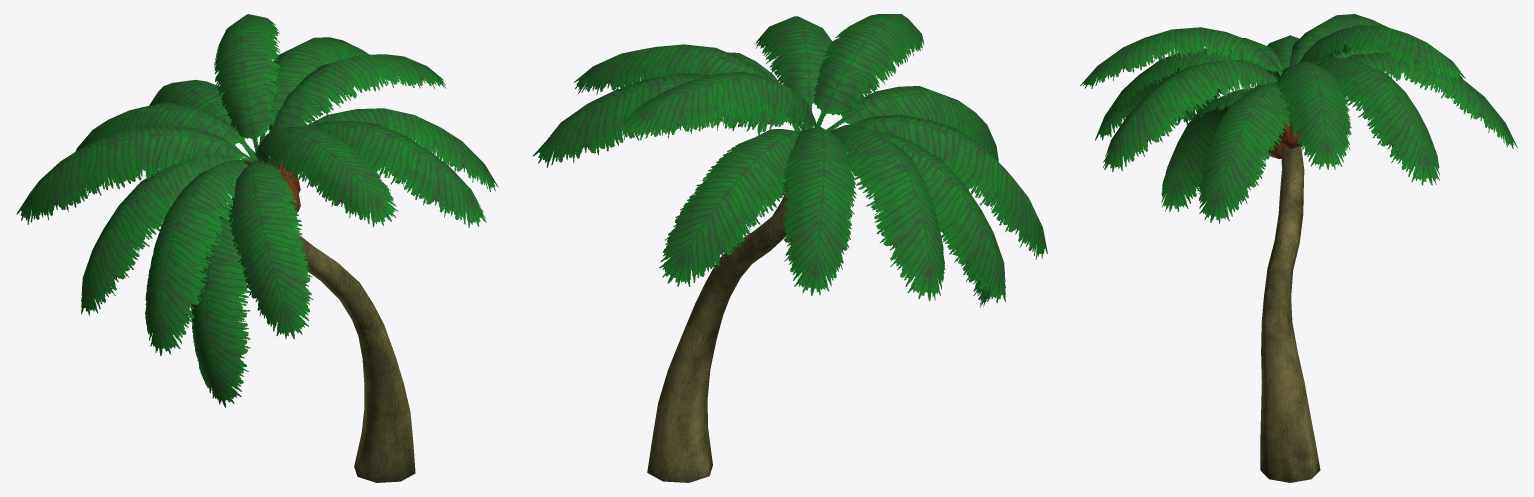
The model's file is Palmboom_v2.fbx.
3 views of the same model, side by side, from view 1: azimuth 30°, elevation 25°; view 2: azimuth 150°, elevation 25°; view 3: azimuth 270°, elevation 25° (orthographic). The views are drawn at different scales.
Parts seen in each view (by area): view 1: Palmboomstam002; view 2: Palmboomstam002; view 3: Palmboomstam002.
Boxes of the visible parts, x1,y1,x2,y2 form: Palmboomstam002: (16, 14, 498, 482); Palmboomstam002: (532, 14, 1047, 482); Palmboomstam002: (1080, 14, 1517, 482).
Bounding box in the file's own units: 158 × 165 × 165.
